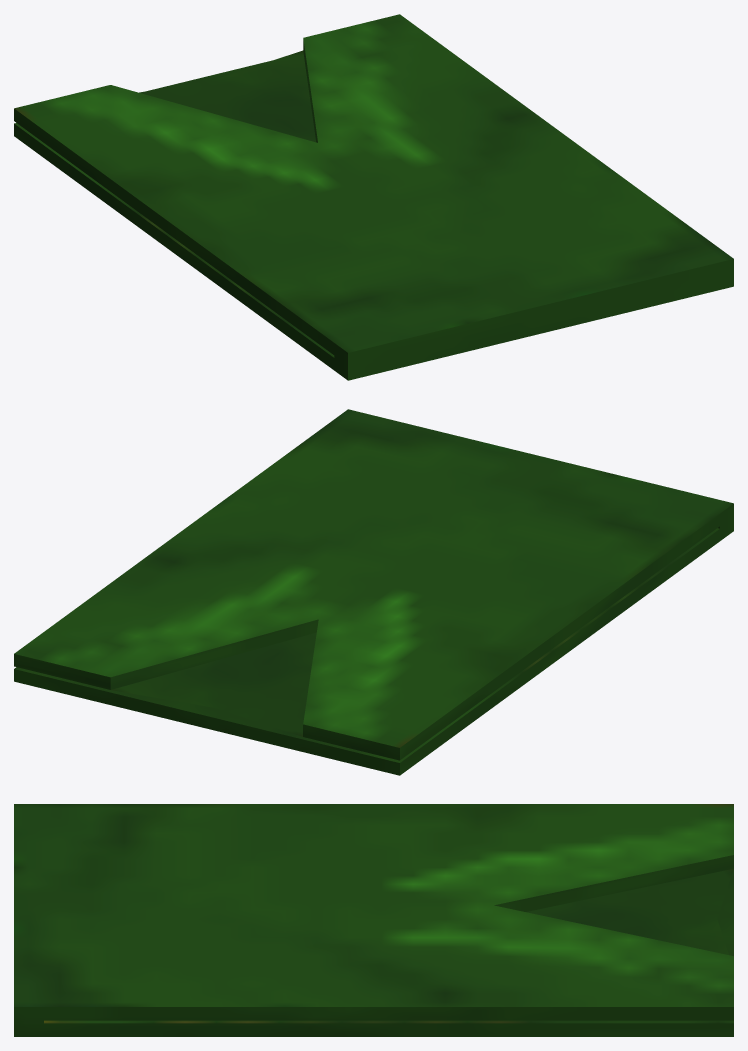
File: Clothes 02.obj
3 renders of one model, top to bottom at view 1: azimuth 30°, elevation 25°; view 2: azimuth 150°, elevation 25°; view 3: azimuth 270°, elevation 25°, orthographic. The views are drawn at different scales.
Parts seen in each view (by area): view 1: Clothes_02; view 2: Clothes_02; view 3: Clothes_02.
Boxes of the visible parts, x1,y1,x2,y2 form: Clothes_02: (14, 14, 733, 380); Clothes_02: (14, 409, 733, 775); Clothes_02: (14, 804, 733, 1036).
Size of the model in its own units: 4.03 by 0.2772 by 6.05.
